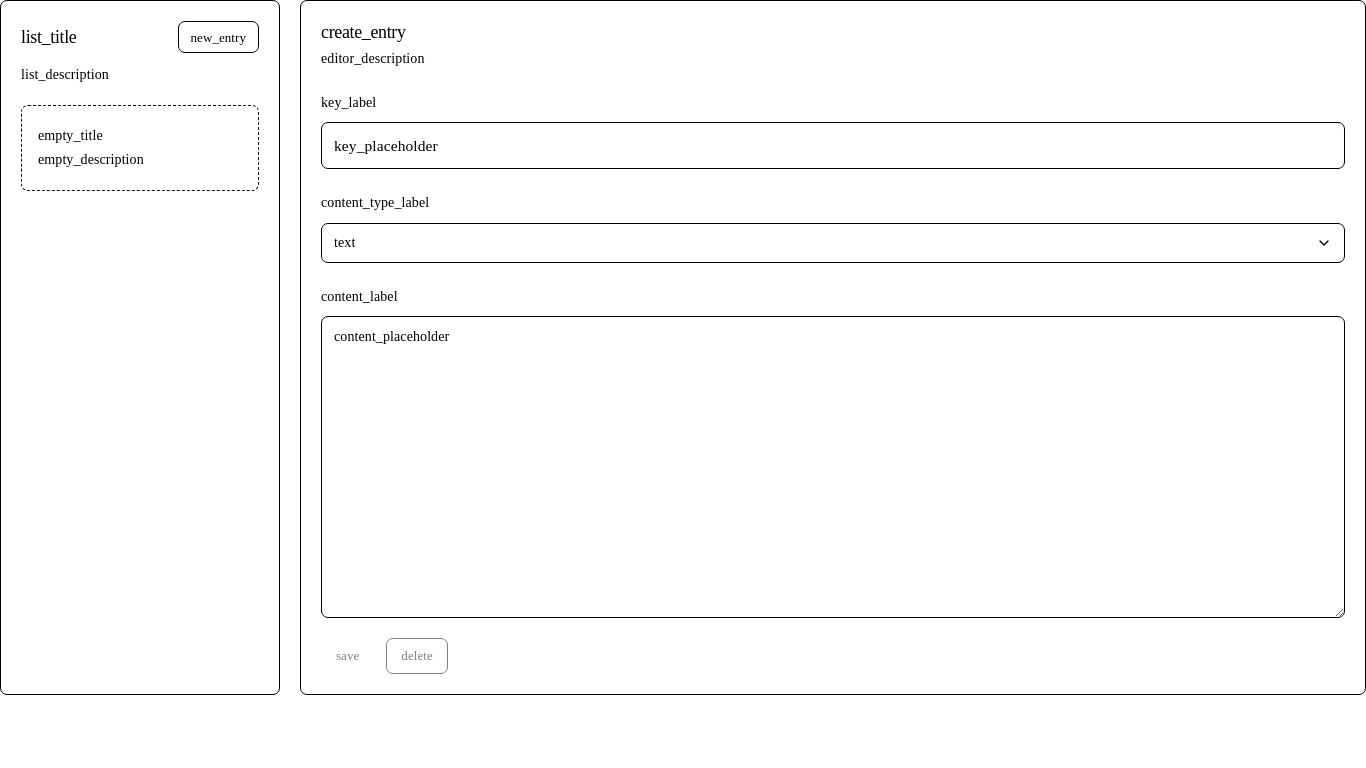
Test: ContextManager › creates a new workspace entry and refreshes the list
In the field with test id "context-store__key": (833, 146) [321, 122, 1345, 169], type "shared.new_policy"
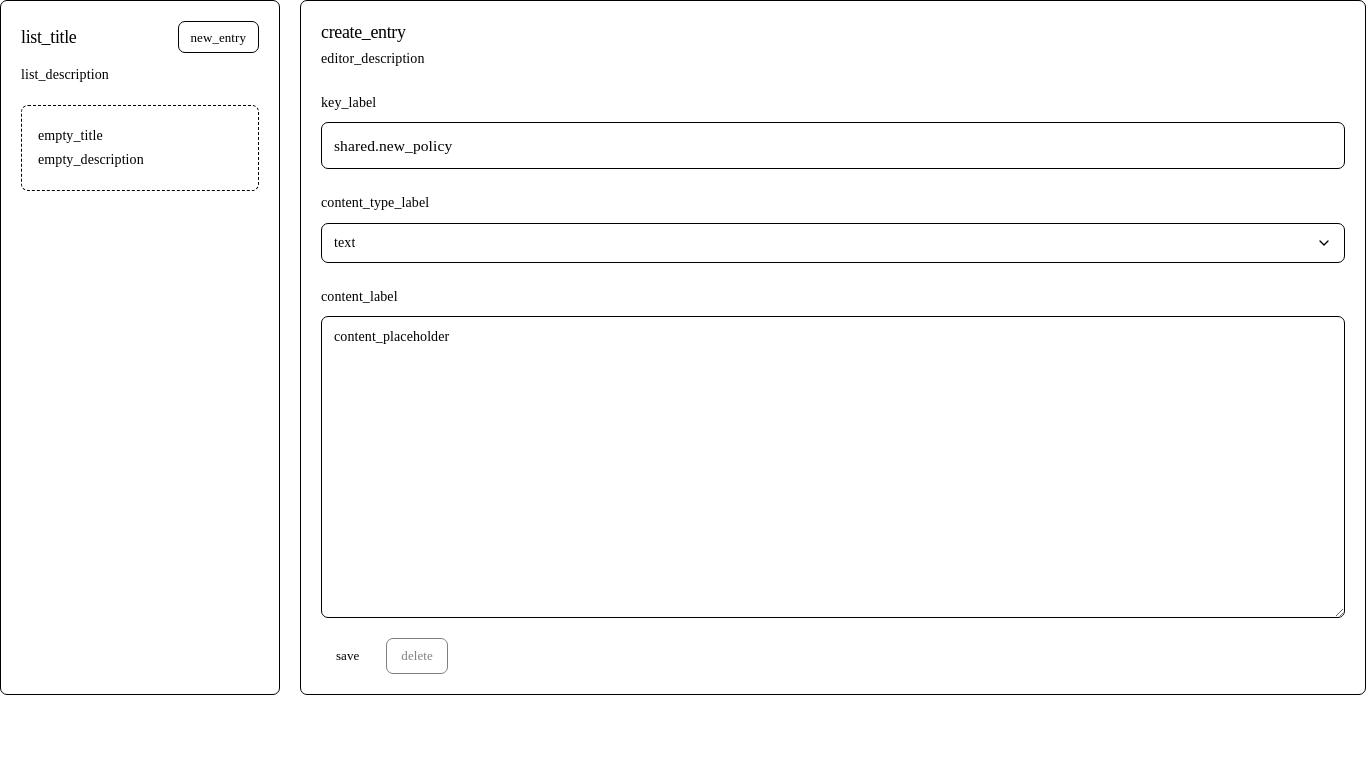
In the text box with test id "context-store__content": (833, 467) [321, 316, 1345, 618], type "Keep responses concise."
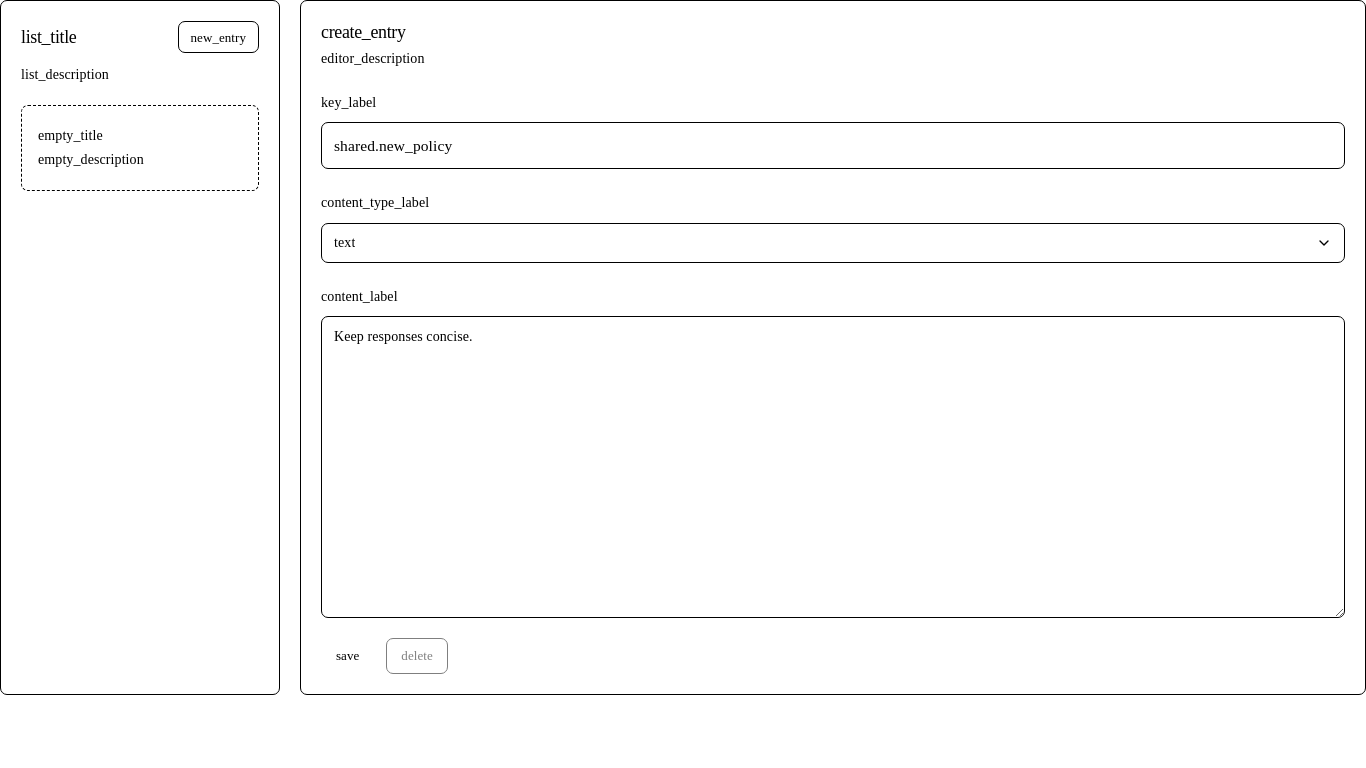
Click the button with test id "context-store__save": (348, 656) [321, 638, 374, 674]
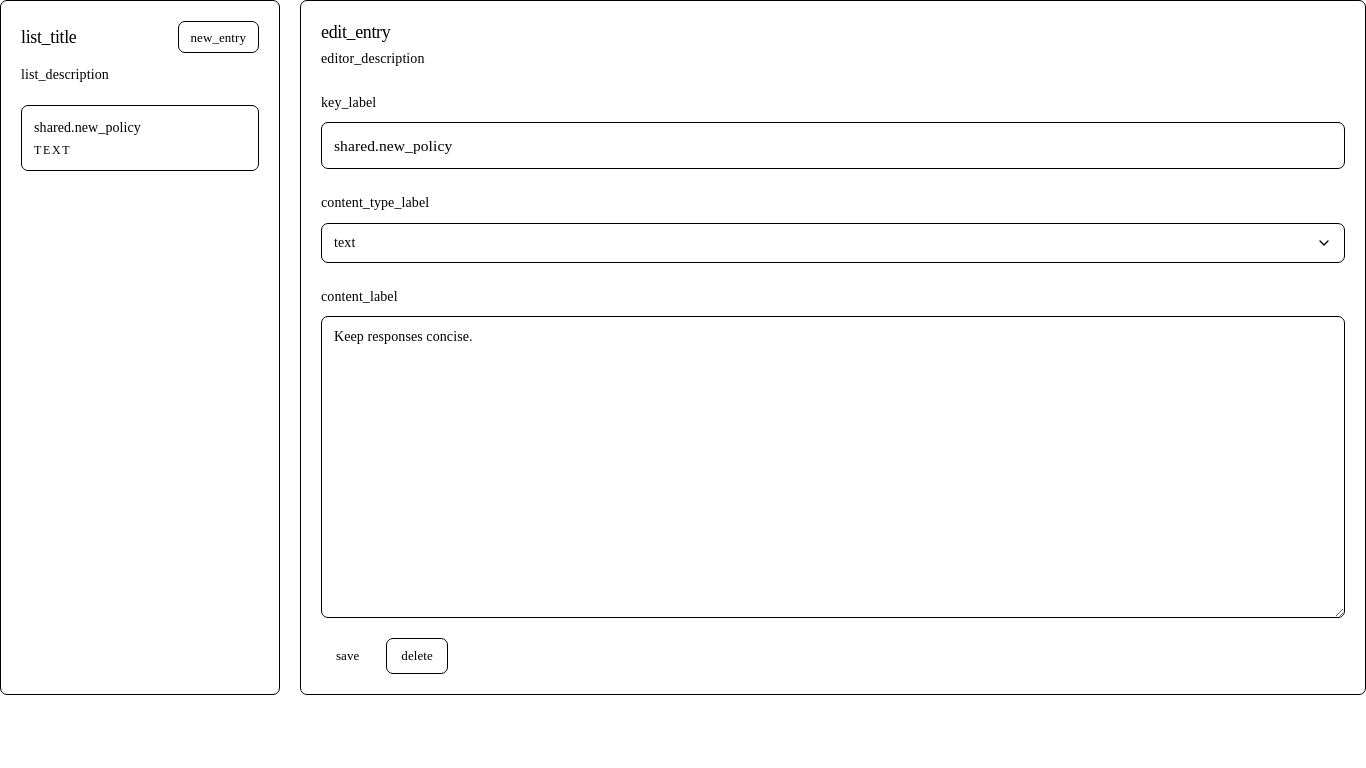
Expected: the button with test id "context-store__item--shared.new_policy" is shown, [21, 105, 259, 171]
